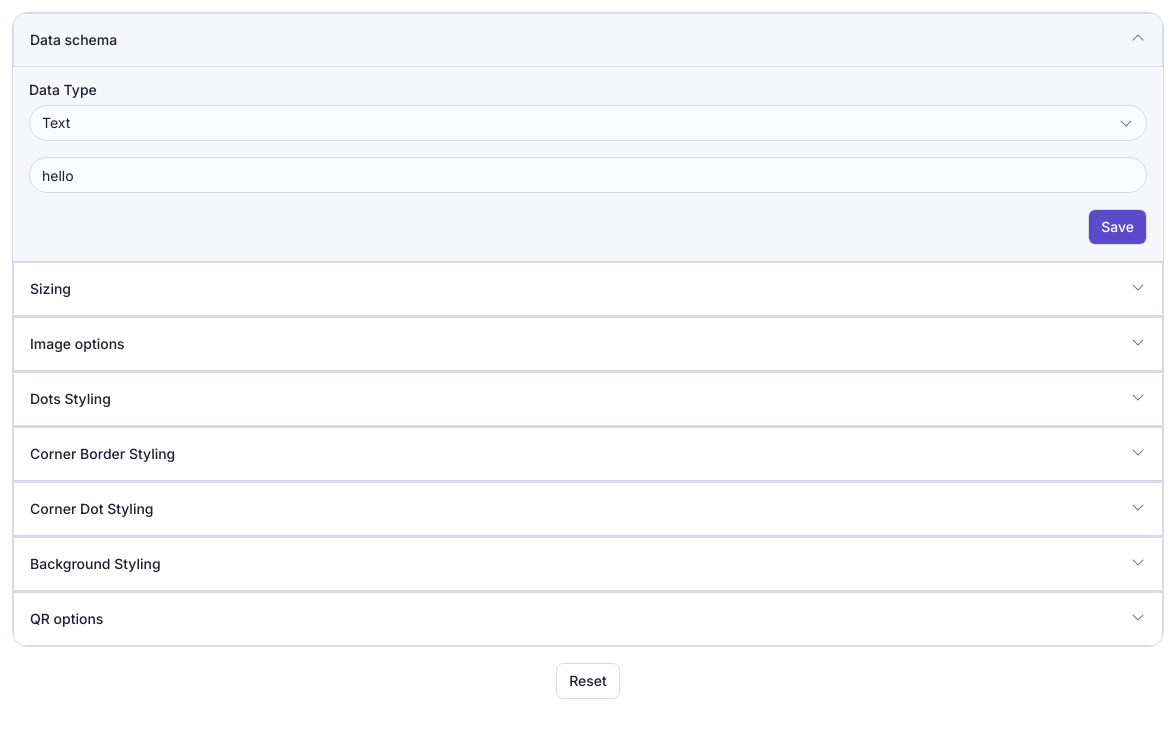
it: <QrForm /> › reinitializes uncontrolled schema fields after saving data
This screenshot has width=1176, height=732.
Step 1. Replace the text in the field with test id "qr-schema-input" with "updated" → (588, 175), box [29,157,1147,193]
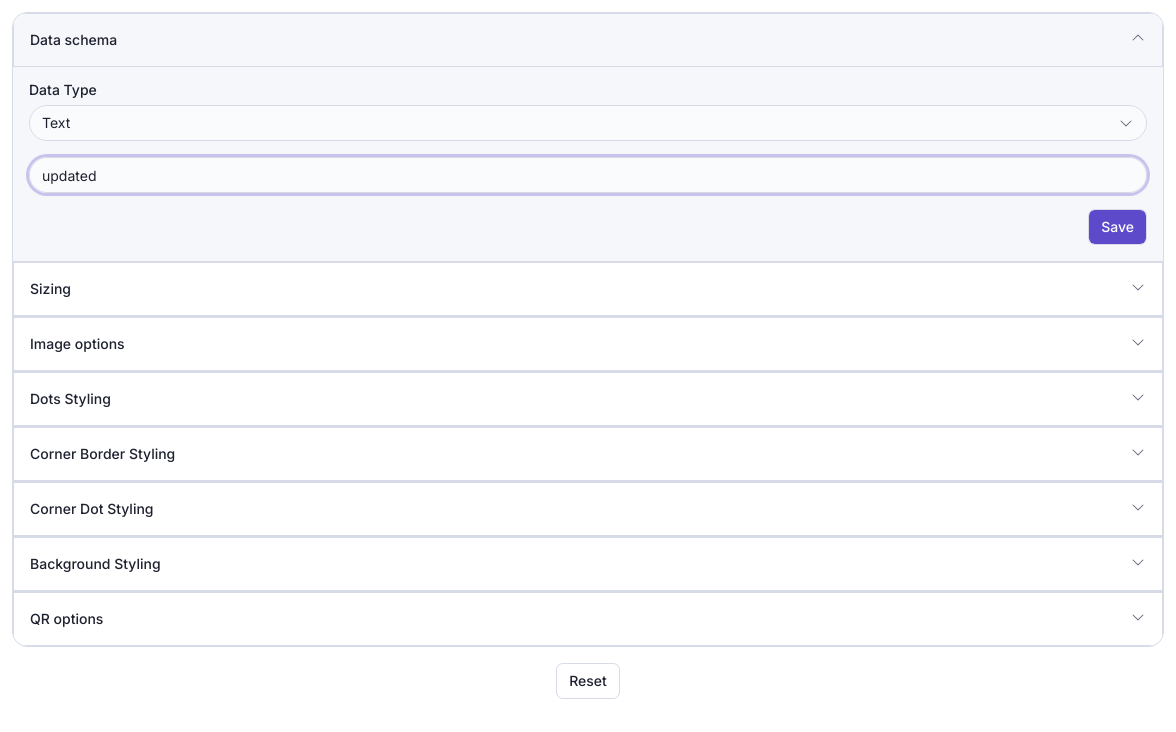
Step 2. Submit the form, box [29,157,1147,245]
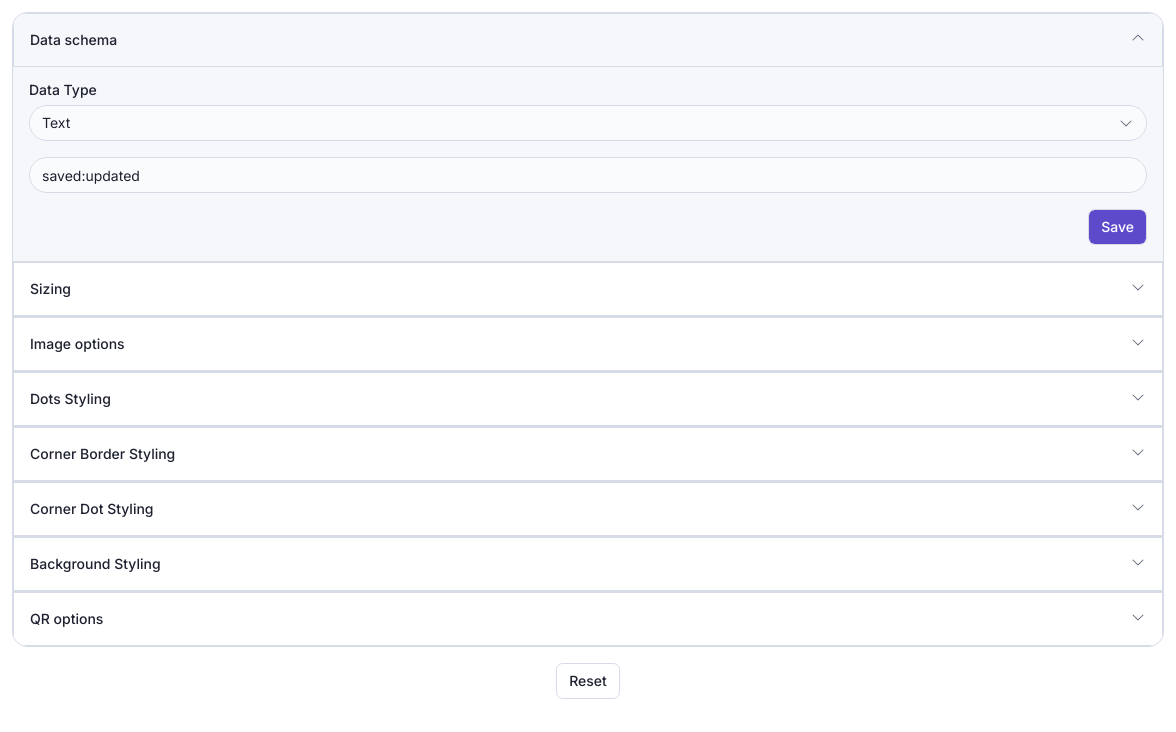
Check: the field with test id "qr-schema-input" holds "saved:updated", box [29,157,1147,193]
